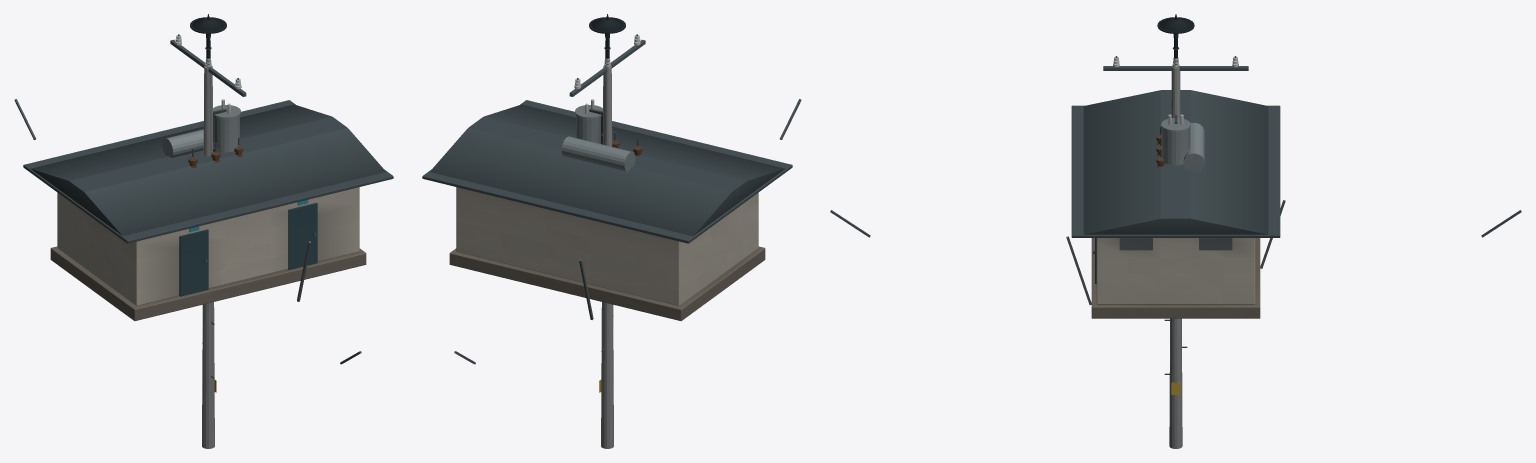
The model's file is district-props-v1.glb.
3 views of the same model, side by side, from view 1: azimuth 30°, elevation 25°; view 2: azimuth 150°, elevation 25°; view 3: azimuth 270°, elevation 25° (orthographic).
Parts seen in each view (by area): view 1: Restroom, PowerPole, PowerPoleTx, Transformer, LampPost; view 2: Restroom, PowerPole, Transformer, PowerPoleTx, LampPost; view 3: Restroom, PowerPole, PowerPoleTx, Transformer.
Boxes of the visible parts, x1,y1,x2,y2 form: Restroom: (23, 100, 393, 320); PowerPole: (14, 34, 361, 448); PowerPoleTx: (213, 99, 240, 152); Transformer: (162, 129, 243, 167); LampPost: (190, 14, 226, 67); Restroom: (422, 100, 792, 320); PowerPole: (454, 34, 801, 448); Transformer: (561, 132, 642, 172); PowerPoleTx: (575, 99, 602, 144); LampPost: (589, 14, 625, 67); Restroom: (1071, 90, 1280, 318); PowerPole: (830, 56, 1521, 448); PowerPoleTx: (1161, 114, 1190, 165); Transformer: (1156, 122, 1204, 171).
Bounding box in the file's own units: 9.3 × 14.41 × 20.89.
